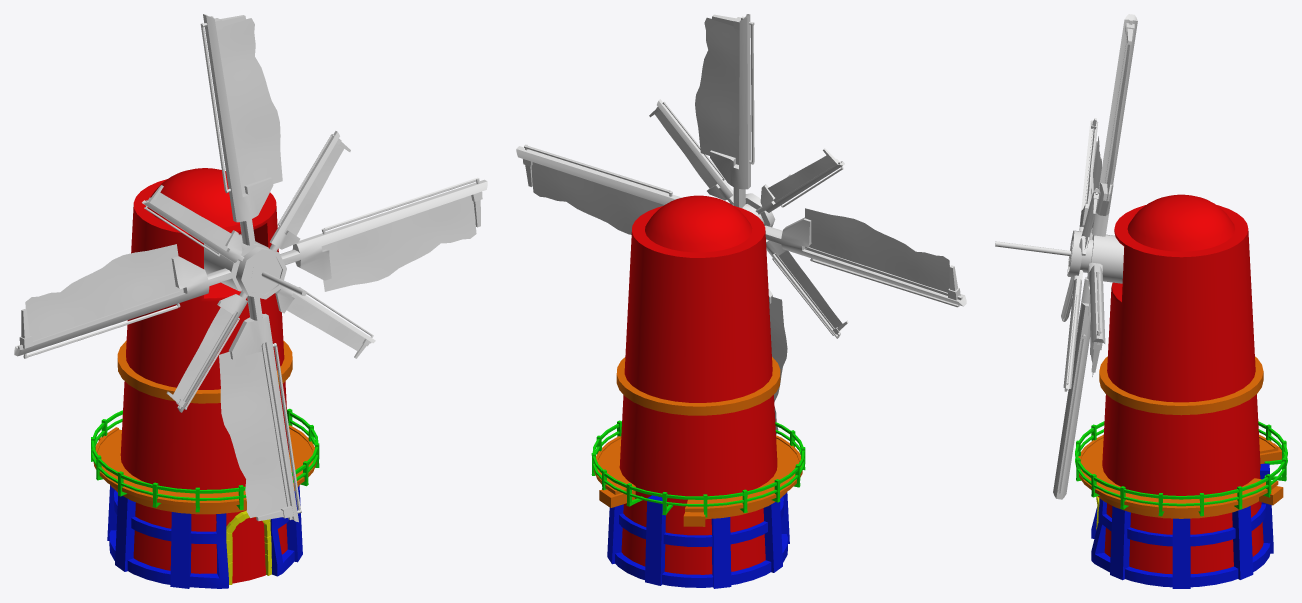
File: Windmill_V02 2.fbx
3 views of the same model, side by side, from view 1: azimuth 30°, elevation 25°; view 2: azimuth 150°, elevation 25°; view 3: azimuth 270°, elevation 25° (orthographic). The views are drawn at different scales.
Visible parts, largest first — view 1: Hastes.010, BaseMoinho, MadeirasBase, MadeirasPrimeiroAndar, Rotor.003, Cerca, PortaPedras; view 2: BaseMoinho, Hastes.010, MadeirasBase, MadeirasPrimeiroAndar, Cerca; view 3: BaseMoinho, Hastes.010, MadeirasBase, MadeirasPrimeiroAndar, Cerca, Rotor.003.
Boxes of the visible parts, x1=… form: Hastes.010: x1=14, y1=14, x2=487, y2=522; BaseMoinho: x1=120, y1=168, x2=289, y2=583; MadeirasBase: x1=107, y1=485, x2=302, y2=588; MadeirasPrimeiroAndar: x1=93, y1=340, x2=316, y2=514; Rotor.003: x1=204, y1=234, x2=306, y2=299; Cerca: x1=91, y1=408, x2=319, y2=512; PortaPedras: x1=226, y1=510, x2=271, y2=584; BaseMoinho: x1=619, y1=195, x2=777, y2=574; Hastes.010: x1=516, y1=14, x2=966, y2=434; MadeirasBase: x1=607, y1=492, x2=789, y2=588; MadeirasPrimeiroAndar: x1=594, y1=357, x2=802, y2=526; Cerca: x1=591, y1=420, x2=805, y2=517; BaseMoinho: x1=1102, y1=194, x2=1263, y2=574; Hastes.010: x1=1053, y1=14, x2=1137, y2=499; MadeirasBase: x1=1091, y1=463, x2=1273, y2=588; MadeirasPrimeiroAndar: x1=1078, y1=356, x2=1283, y2=518; Cerca: x1=1075, y1=421, x2=1287, y2=516; Rotor.003: x1=995, y1=230, x2=1123, y2=283.
Bounding box in the file's own units: 1167 × 1315 × 666.
